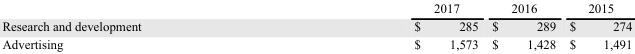table: (1, 0, 631, 51)
table column: (1, 0, 277, 51), (277, 0, 484, 51), (484, 0, 561, 51), (561, 0, 631, 51)
table column header: (1, 0, 631, 16)
table row: (1, 16, 631, 35), (1, 0, 631, 16), (1, 35, 631, 51)
